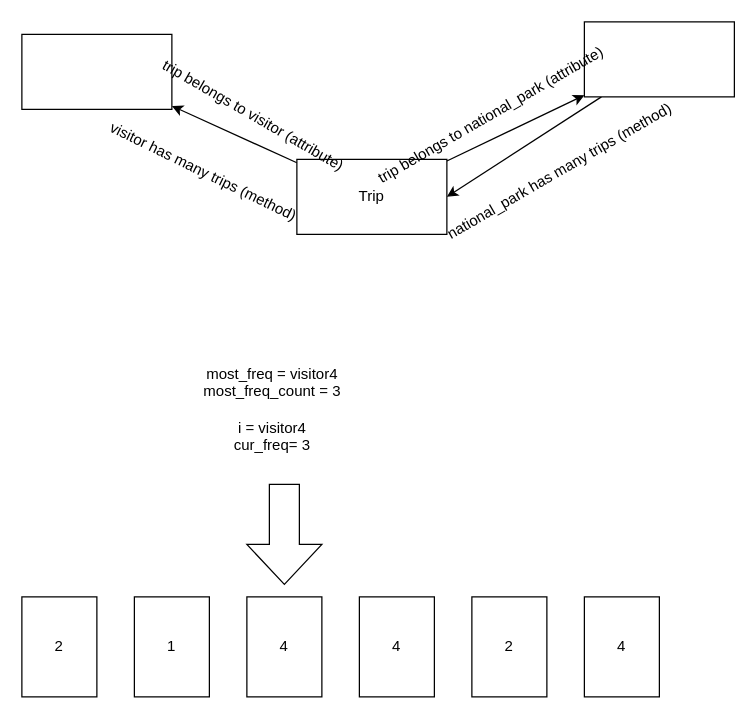
Some shapes in this 756 by 719 pixel diagram are drawn without their labels. The shapes that lost their labels are listed below. From the top down, each one's centre as x and y in pixels, then its label:
(x=96, y=71): Visitor
(x=658, y=59): National_Park
